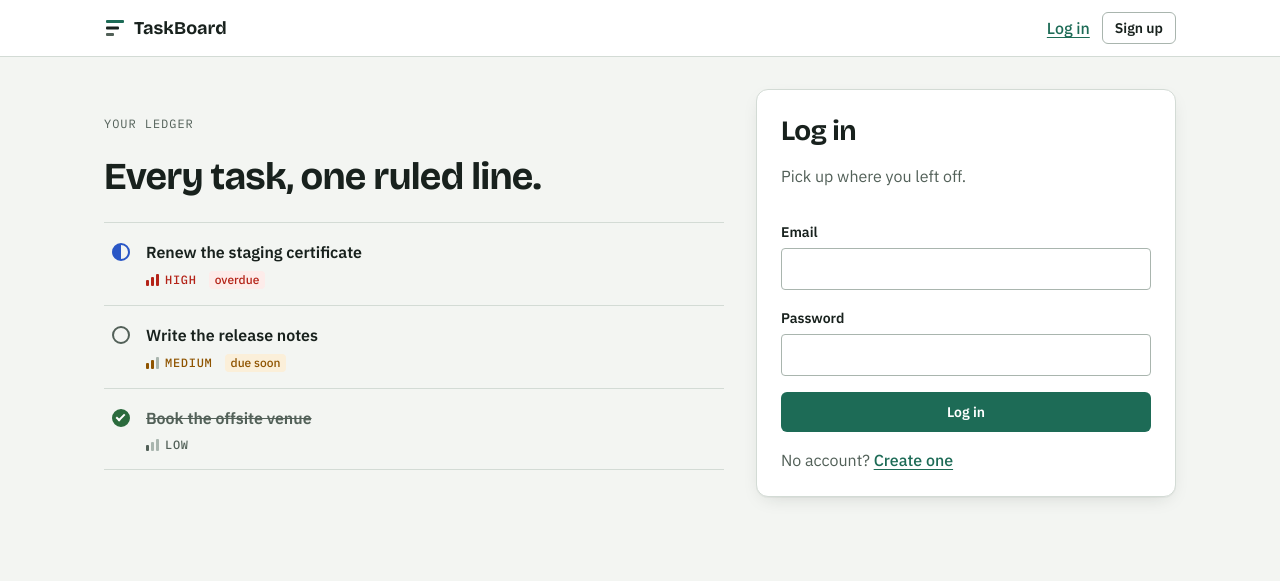
Scenario: App › shows the server error in an alert on failed login
Type "ada@example.com" into the field labelled "Email".
click(966, 269); type("ada@example.com")  # box [781, 248, 1151, 290]
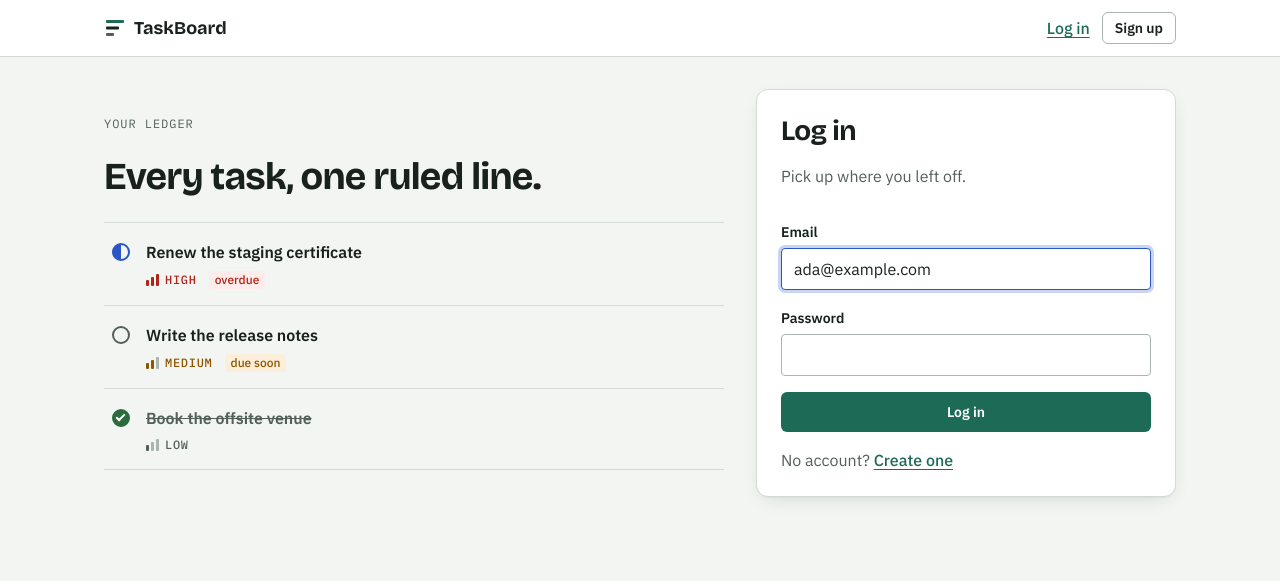
Type "wrong-pass1" into the password field labelled "Password".
click(966, 355); type("wrong-pass1")  # box [781, 334, 1151, 376]
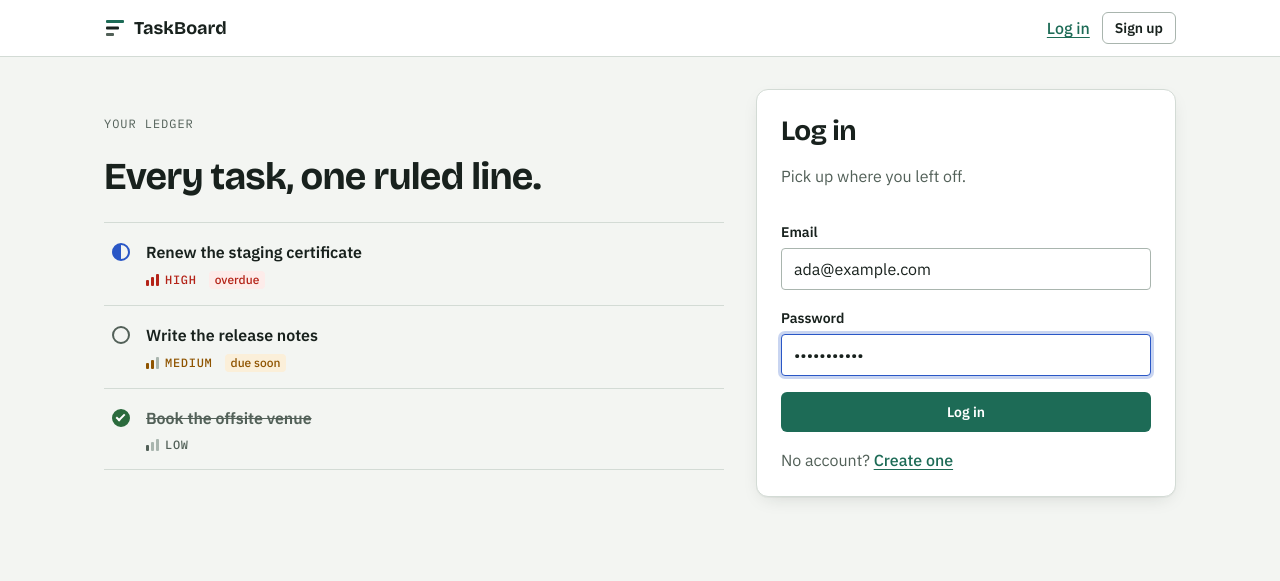
Click the button "Log in".
click(966, 412)  # box [781, 392, 1151, 432]
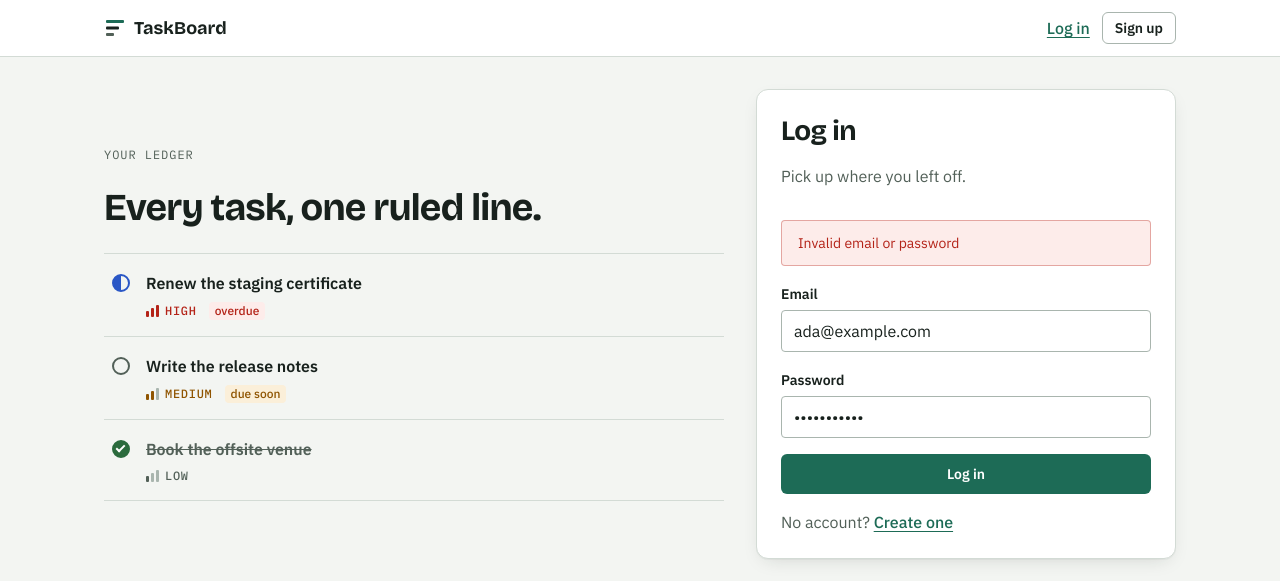
Expected: the button "Log in" is enabled, [781, 454, 1151, 494]
Now the message reads "Invalid email or password", box [798, 234, 959, 252]
